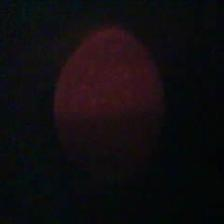fertile: (51, 25, 161, 172)
